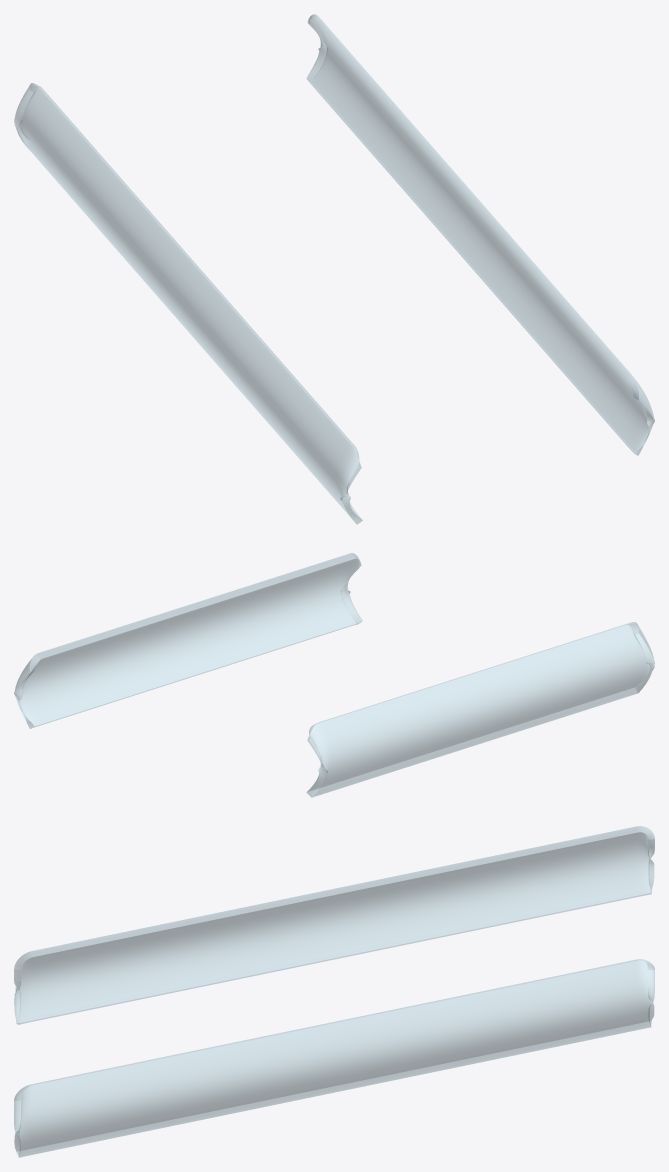
File: SM_GlassWall_Ramp_Curved.fbx
The picture shows the model from 3 angles, top to bottom: view 1: azimuth 30°, elevation 25°; view 2: azimuth 150°, elevation 25°; view 3: azimuth 270°, elevation 25°; orthographic projection. The views are drawn at different scales.
Visible parts, largest first — view 1: SM_GlassWall_Ramp_Curved; view 2: SM_GlassWall_Ramp_Curved; view 3: SM_GlassWall_Ramp_Curved.
Boxes of the visible parts, bbox=[...] form: SM_GlassWall_Ramp_Curved: bbox=[14, 14, 654, 524]; SM_GlassWall_Ramp_Curved: bbox=[14, 553, 654, 797]; SM_GlassWall_Ramp_Curved: bbox=[14, 826, 654, 1157].
Bounding box in the file's own units: 2.18 × 1.36 × 3.98.
